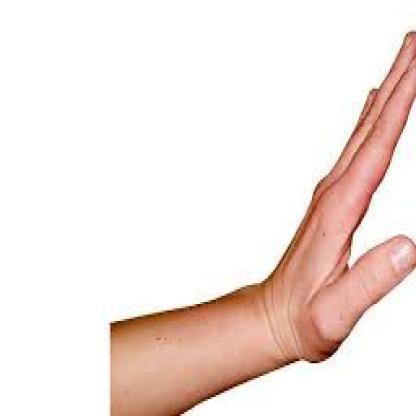stop: (268, 21, 416, 368)
